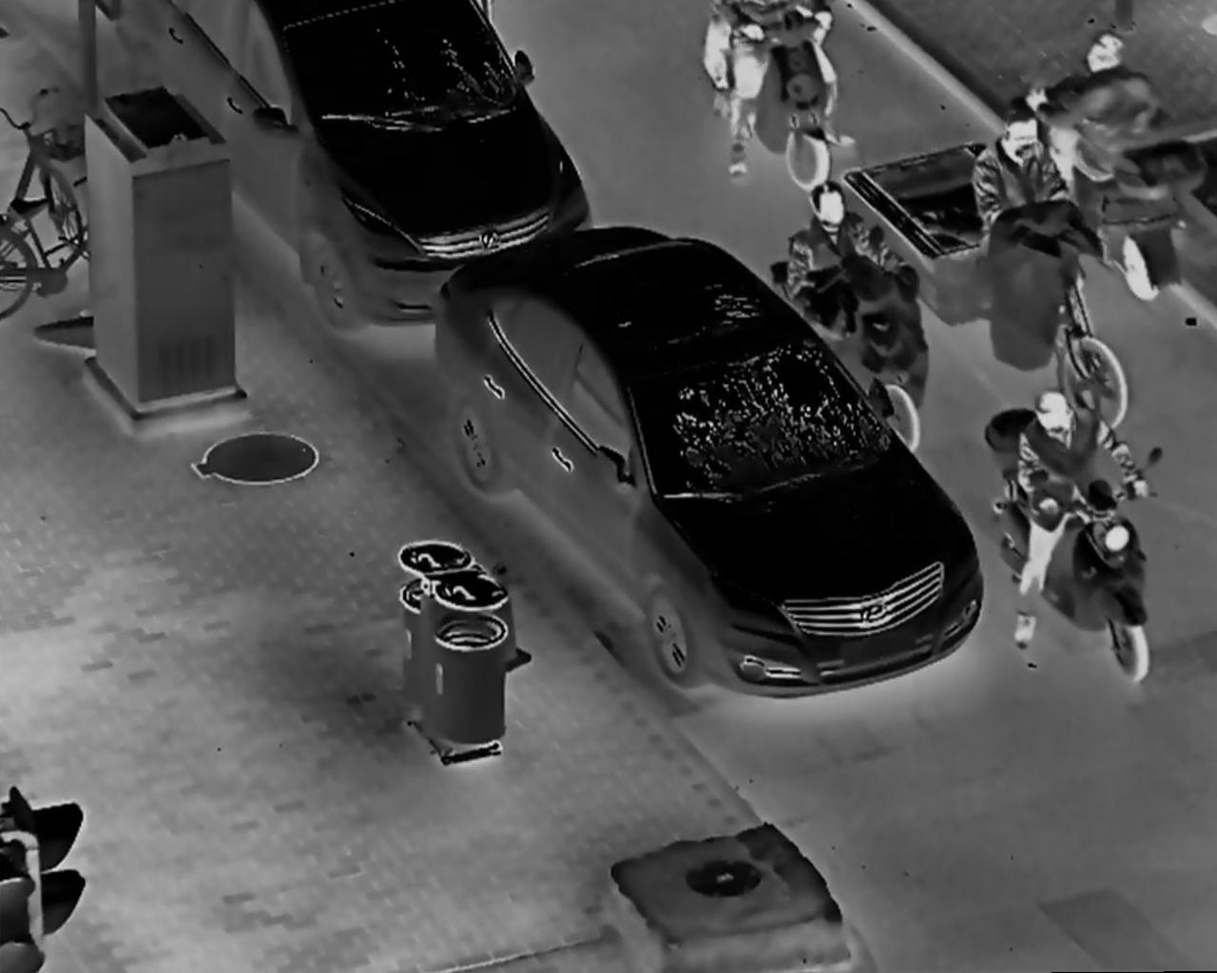person: (1012, 386, 1158, 654), (1024, 31, 1173, 266), (782, 181, 909, 429), (970, 113, 1080, 357)
